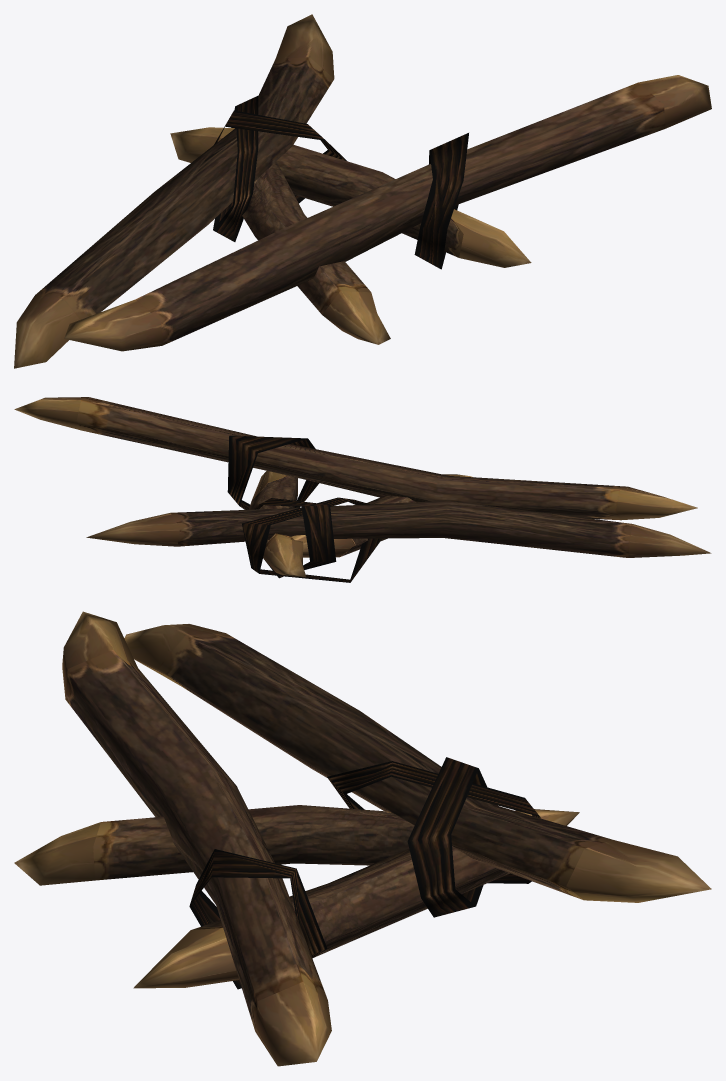
Rendered from lava_wallstair_convex_01.fbx.
3 views of the same model, one above another, from view 1: azimuth 30°, elevation 25°; view 2: azimuth 150°, elevation 25°; view 3: azimuth 270°, elevation 25° (orthographic). The views are drawn at different scales.
Parts seen in each view (by area): view 1: lava_tileset/wood_pole_mat_shadow; view 2: lava_tileset/wood_pole_mat_shadow; view 3: lava_tileset/wood_pole_mat_shadow.
Boxes of the visible parts, x1=… form: lava_tileset/wood_pole_mat_shadow: x1=14, y1=14, x2=711, y2=368; lava_tileset/wood_pole_mat_shadow: x1=14, y1=397, x2=711, y2=582; lava_tileset/wood_pole_mat_shadow: x1=14, y1=611, x2=711, y2=1066.
Size of the model in its own units: 5.06 by 0.741 by 3.11.
